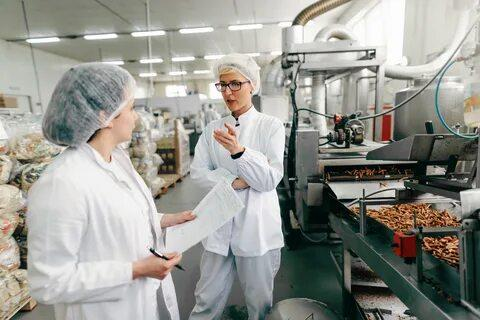hairnet: (33, 51, 140, 149), (208, 52, 271, 99)
